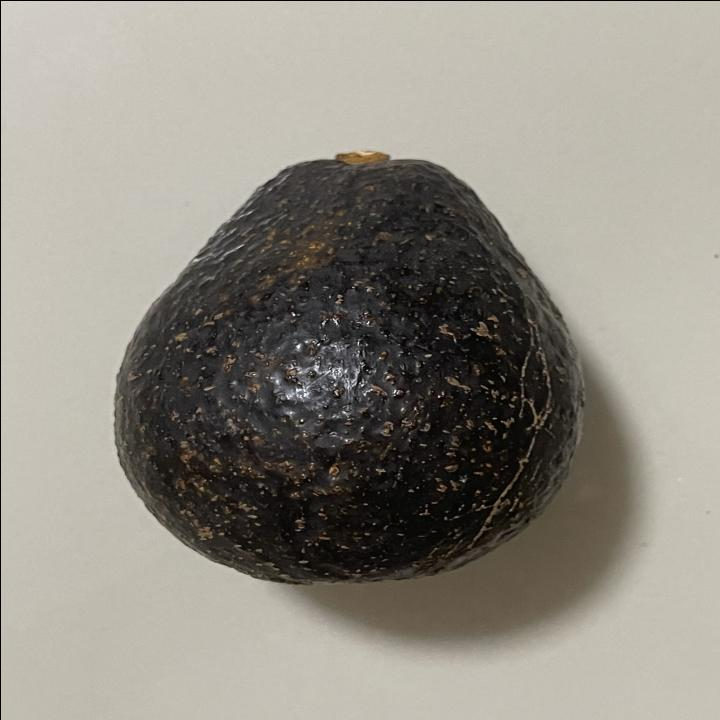Level2: (98, 136, 594, 592)
